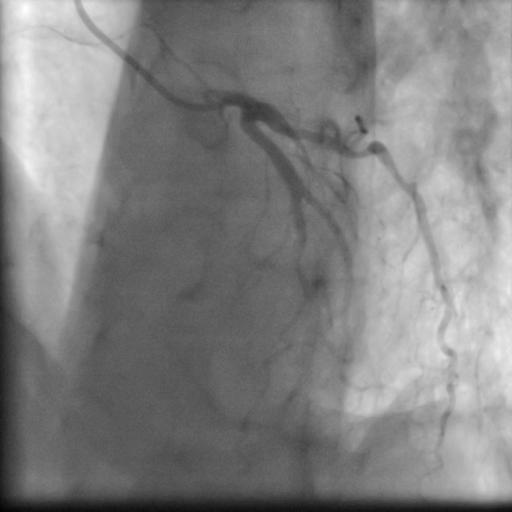Stenosis: (345, 134, 380, 163)
